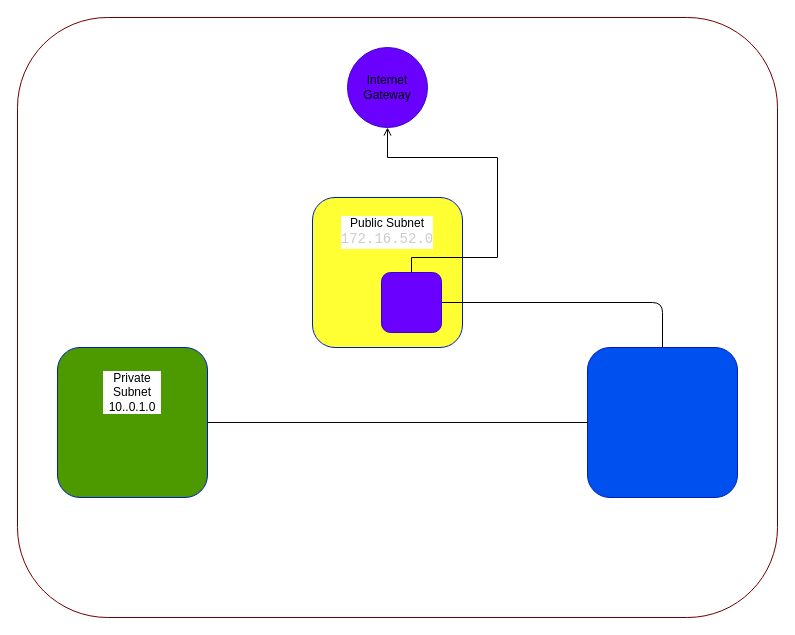
The diagram is 795 pixels wide and 635 high, and some of its shapes have lost their labels. Each missing label, with the centre of its shape:
NAT Gateway: [411,302]
Private Subnet 10.0.2.0: [662,422]
